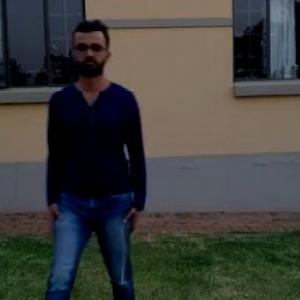follow: (41, 21, 142, 299)
